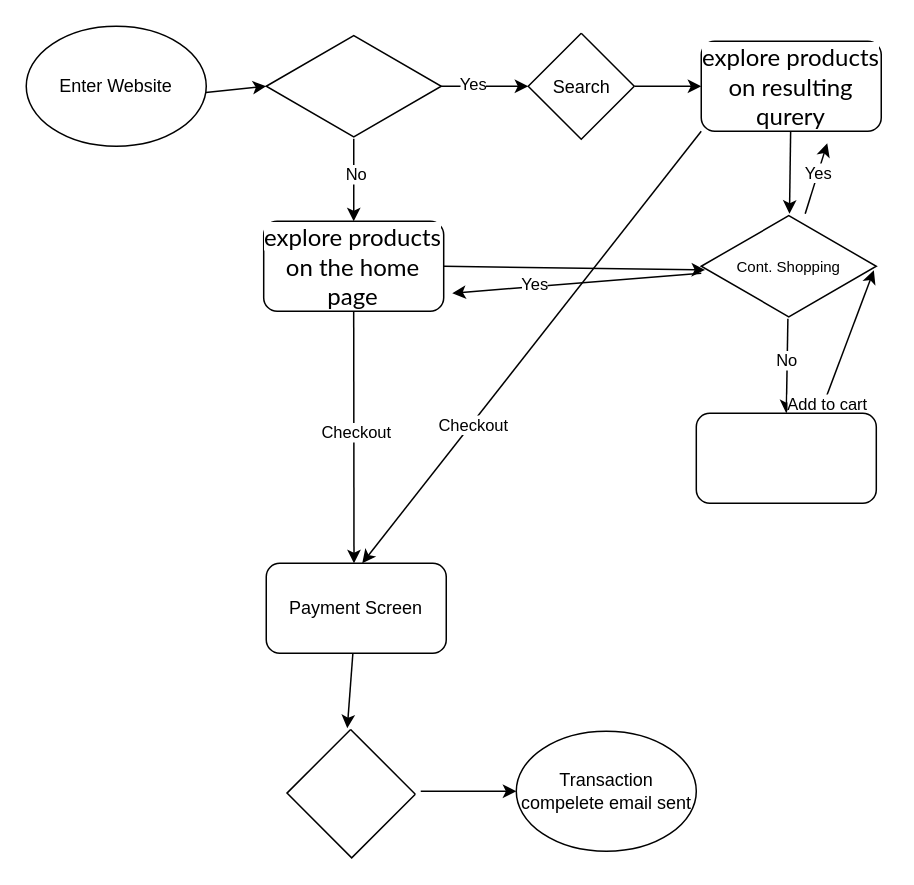
Some shapes in this 914 by 885 pixel diagram are drawn without their labels. Here are the shapes that lost their labels. From the top down, the centre of each, then its label:
At point 353,85: "Searching for item".
At point 785,457: "Veiw Specific Item page".
At point 350,793: "payment info".
